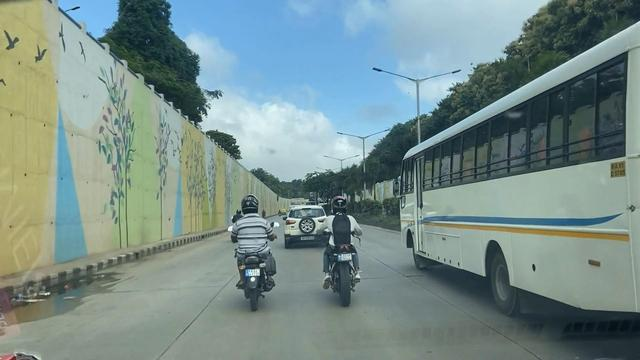HMV: (399, 46, 640, 303)
LMV: (236, 195, 279, 302), (319, 203, 359, 302), (286, 208, 323, 248)
